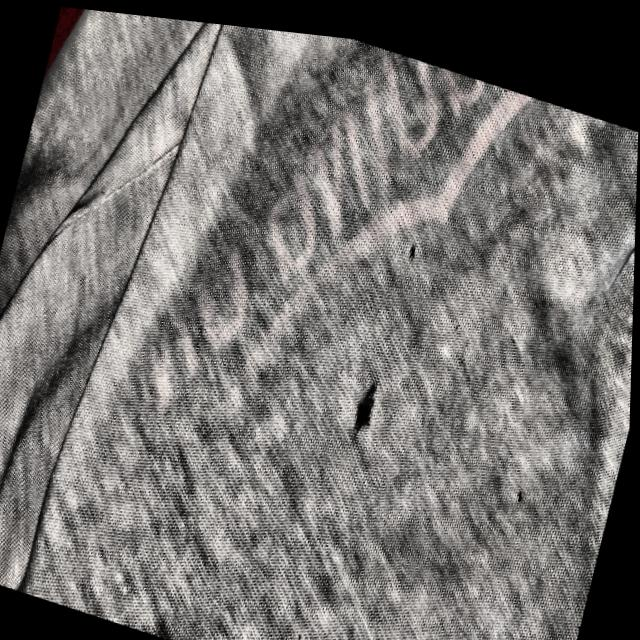Hole: (344, 357, 388, 443), (512, 470, 531, 501), (404, 227, 422, 257)
